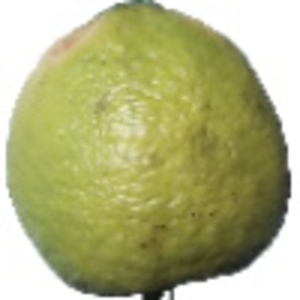limão: (5, 1, 290, 300)
